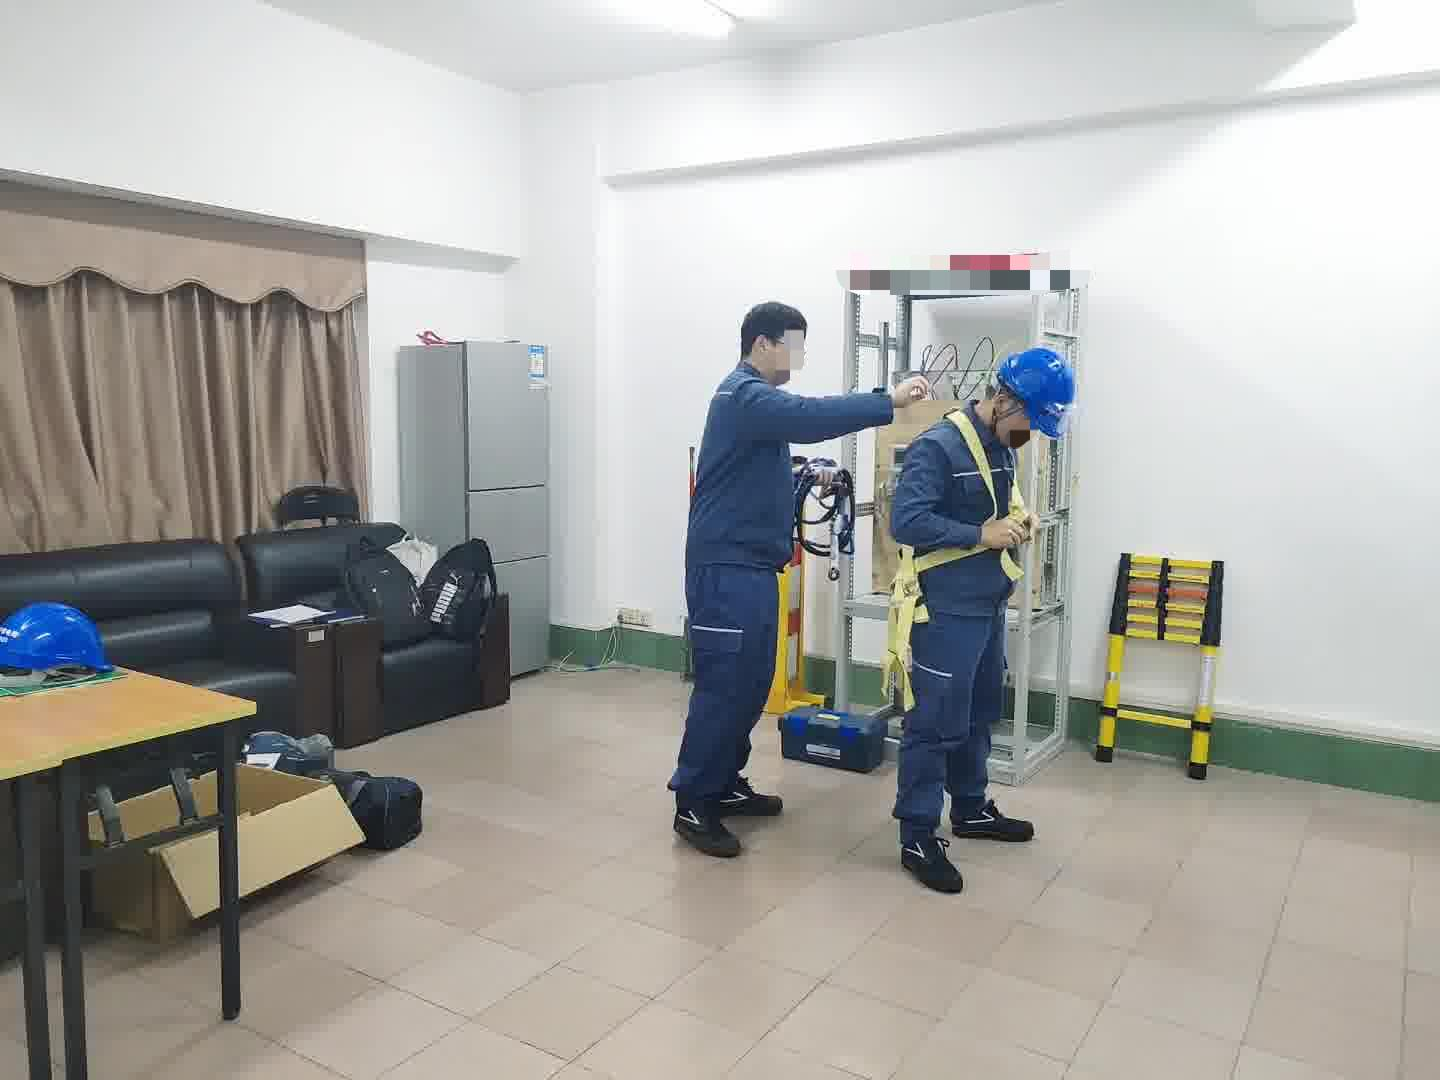halt: (985, 338, 1079, 446)
inear: (989, 391, 1020, 430)
noear: (757, 334, 785, 374)
unhalt: (739, 302, 815, 385)
